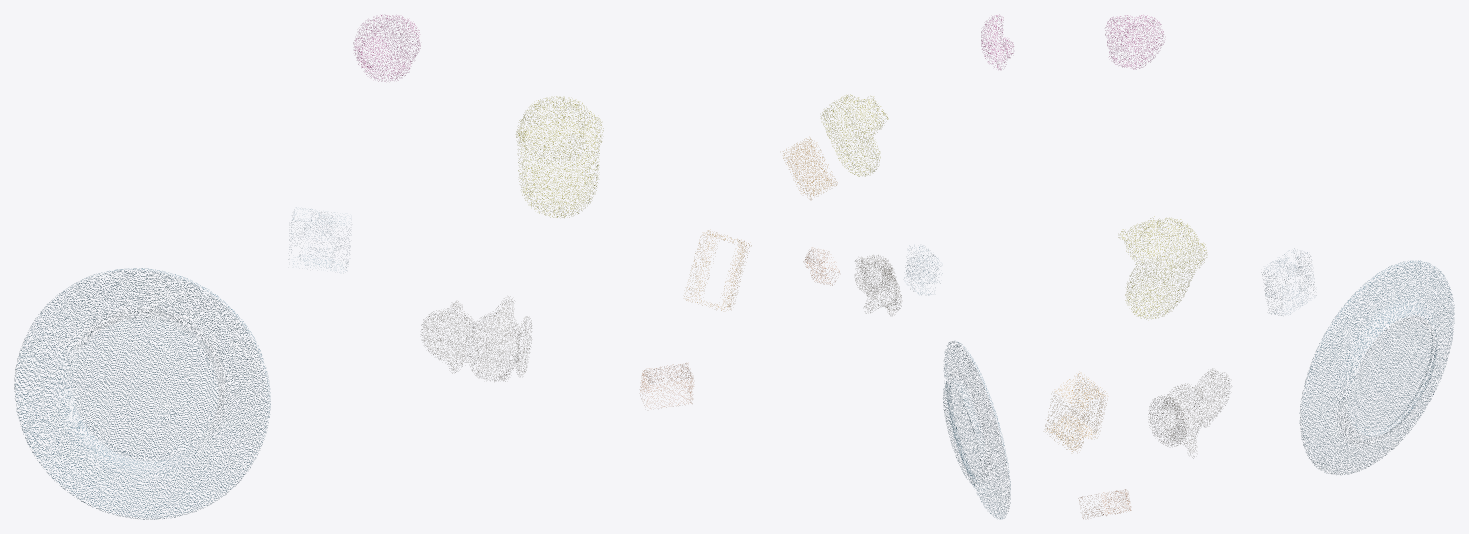
Rendered from scene_in_sapien.glb.
3 renders of one model, left to right at view 1: azimuth 30°, elevation 25°; view 2: azimuth 150°, elevation 25°; view 3: azimuth 270°, elevation 25°, orthographic. The views are drawn at different scales.
Parts seen in each view (by area): view 1: world; view 2: world; view 3: world.
Part boxes in pixels (x1,y1,x2,y2): world: (14,15,751,519); world: (783,14,1013,519); world: (1045,15,1454,518).
Bounding box in the file's own units: 0.178 × 0.1832 × 0.1346.
